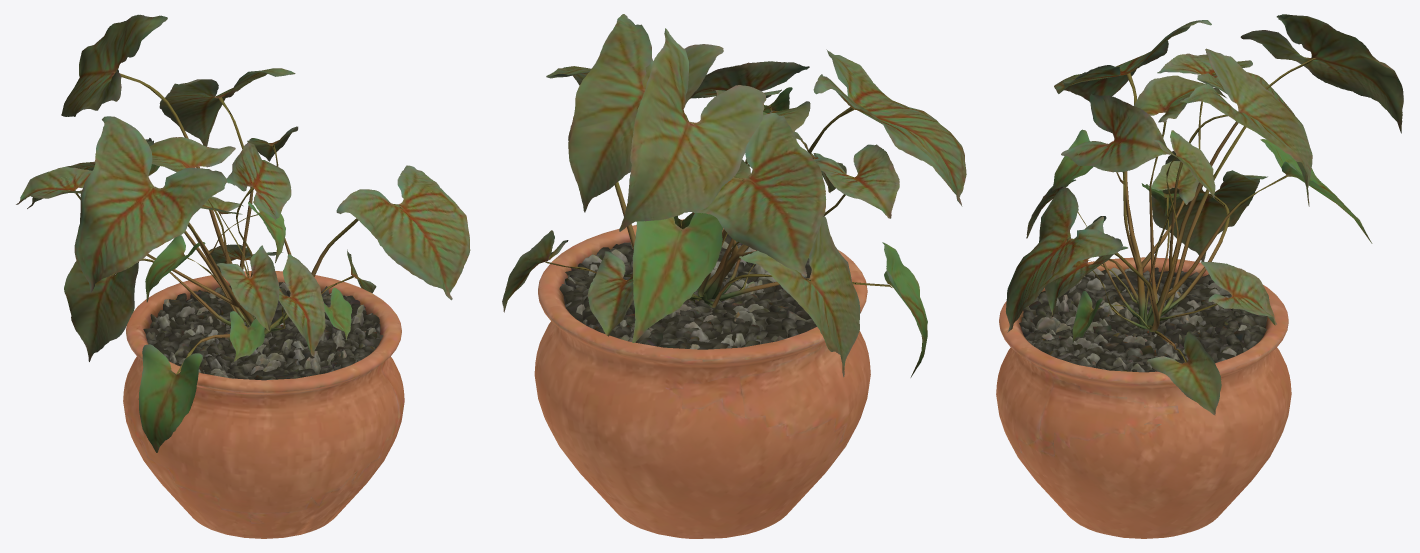
Rendered from planta_vaso.glb.
The picture shows the model from 3 angles, left to right: view 1: azimuth 30°, elevation 25°; view 2: azimuth 150°, elevation 25°; view 3: azimuth 270°, elevation 25°; orthographic projection. The views are drawn at different scales.
Parts seen in each view (by area): view 1: leaves, pot; view 2: leaves, pot; view 3: pot, leaves.
Part boxes in pixels (box(x1,y1,x2,y2)): leaves: box(16, 14, 470, 452); pot: box(123, 271, 404, 538); leaves: box(502, 14, 966, 377); pot: box(534, 219, 870, 538); pot: box(996, 257, 1291, 538); leaves: box(1006, 14, 1403, 415).
Bounding box in the file's own units: 0.7005 × 0.8412 × 0.6574.
Materials: 2 (2 with a texture image).
